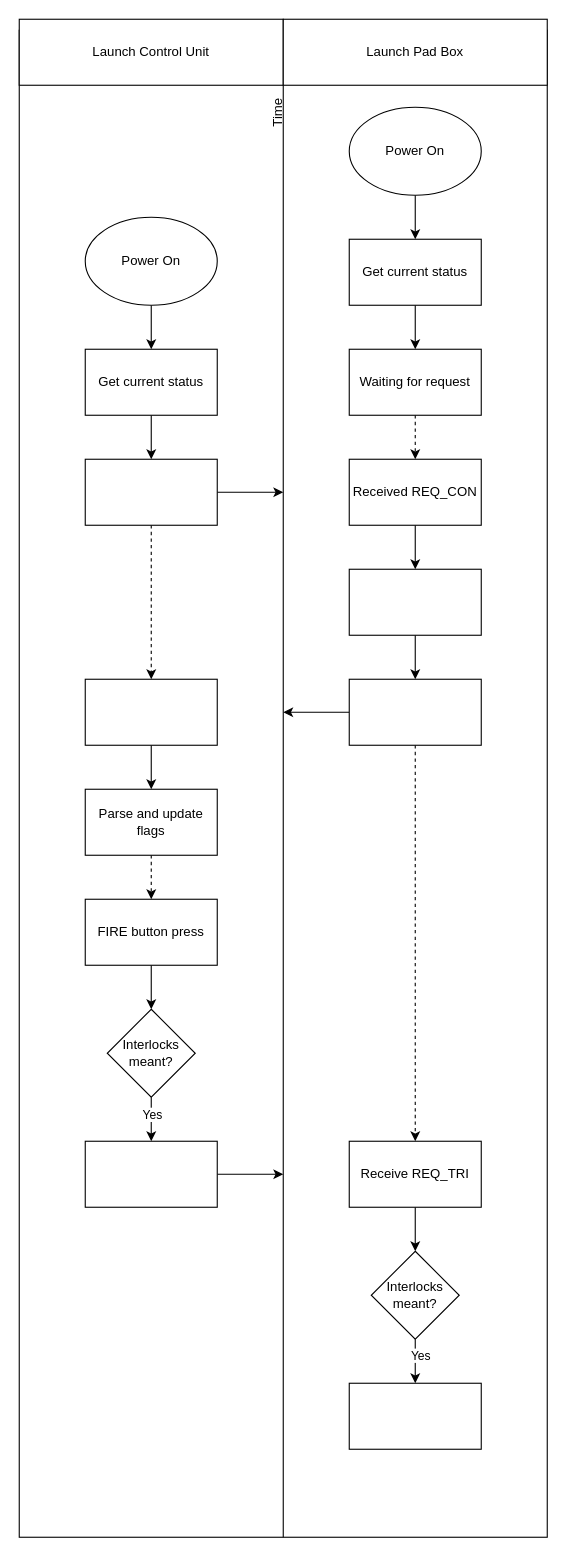
The diagram is 567 pixels wide and 1558 high, and some of its shapes have lost their labels. Each missing label, with the centre of its shape:
"FIRE" goes at pixel 414 1415.
"Package REQ_CON response" goes at pixel 414 601.
"Receive response" goes at pixel 150 711.
"Send REQ_CON" goes at pixel 150 491.
"Send REQ_TRI" goes at pixel 150 1173.
"Send RES_CON" goes at pixel 414 711.
